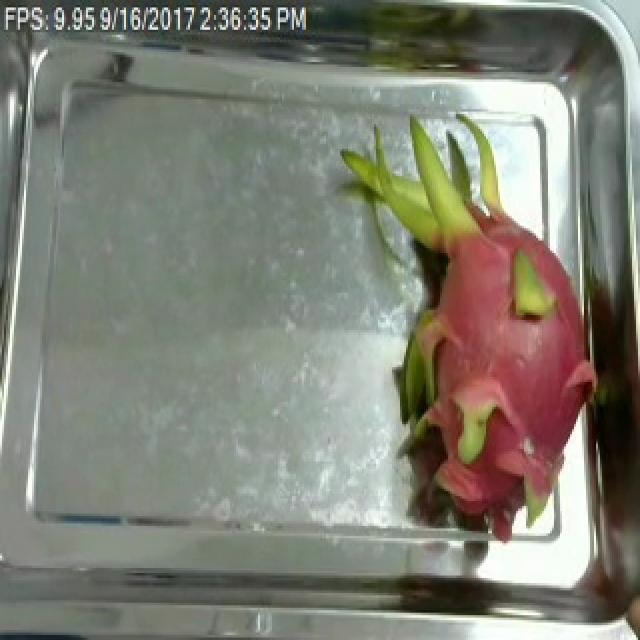fruit: (342, 114, 614, 543)
